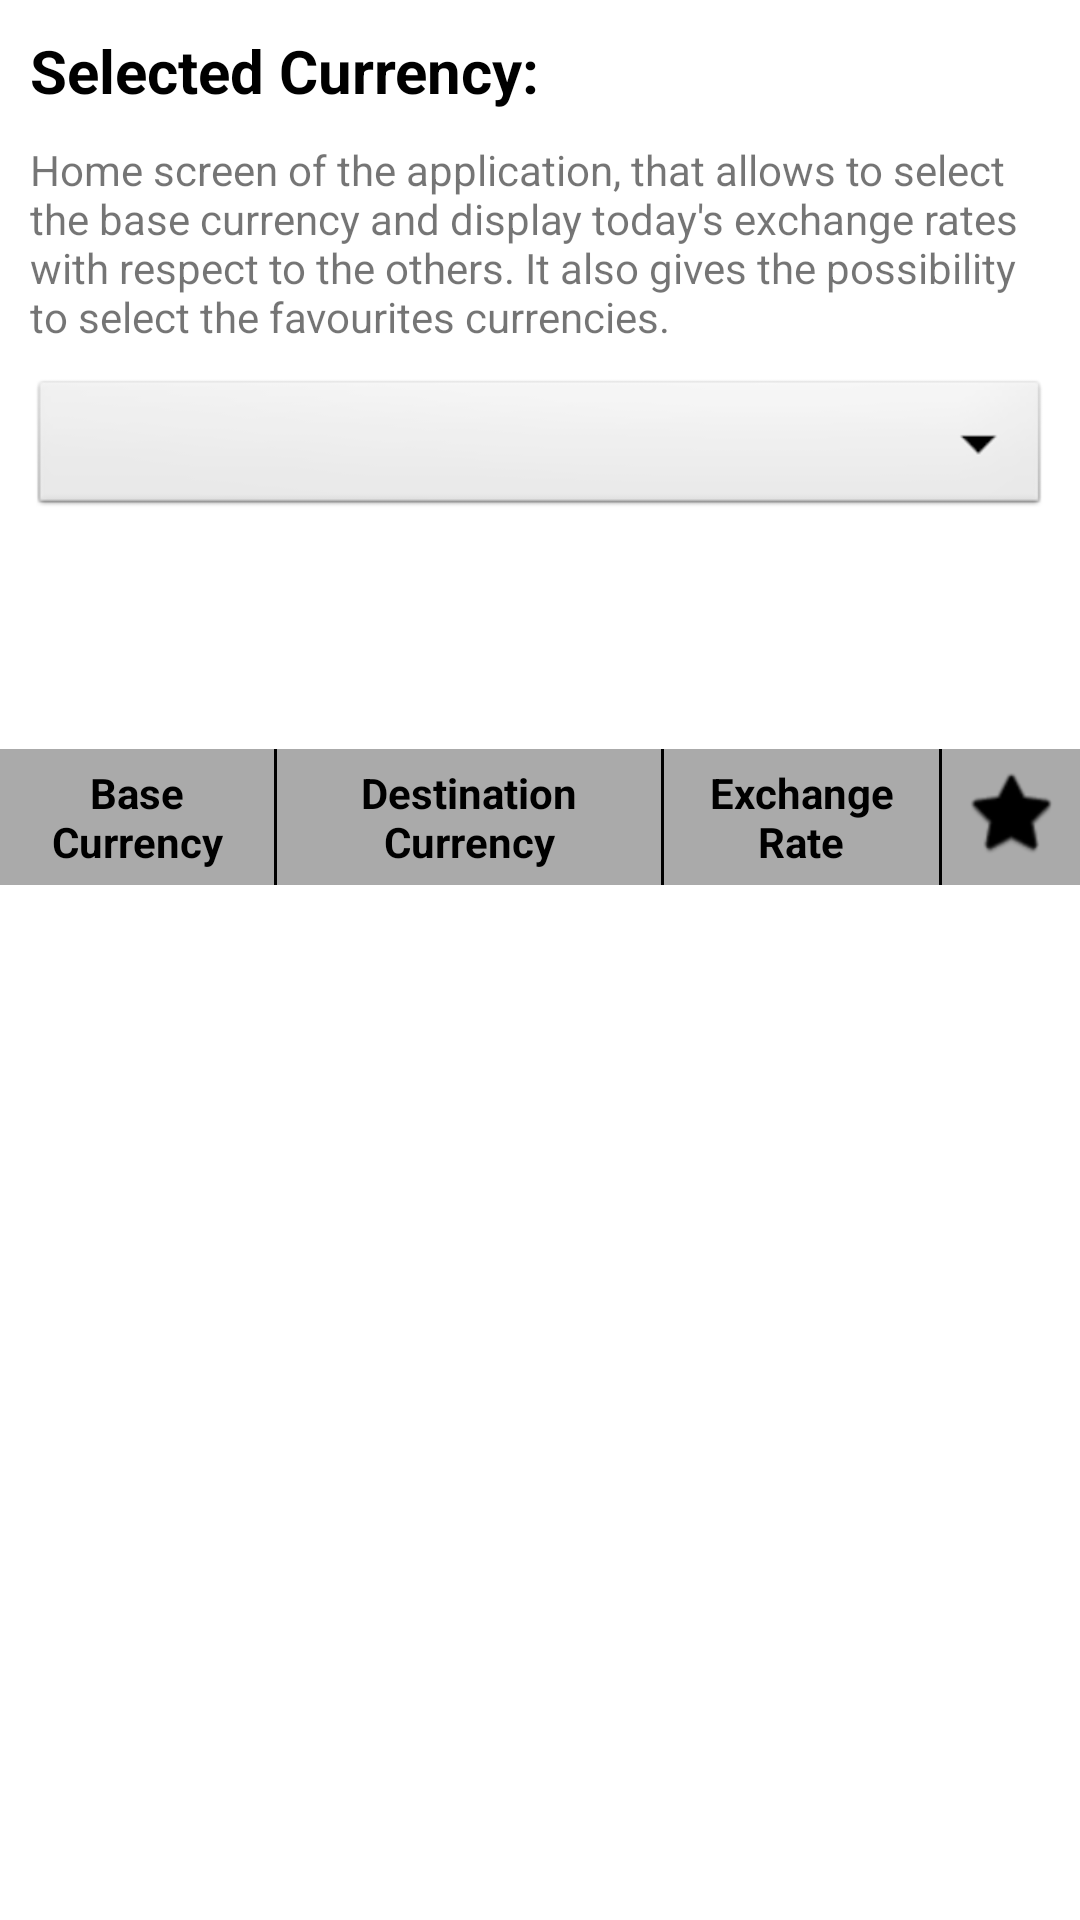

Where to tap for icons on this 1080×1920 app screen, as point (x, y):
star off: point (1011, 812)
